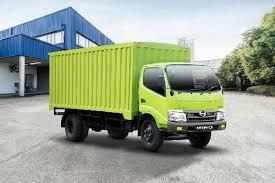truck: (125, 55, 246, 156)
